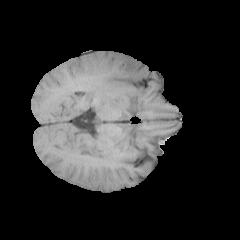glioma: (102, 58, 151, 96)
